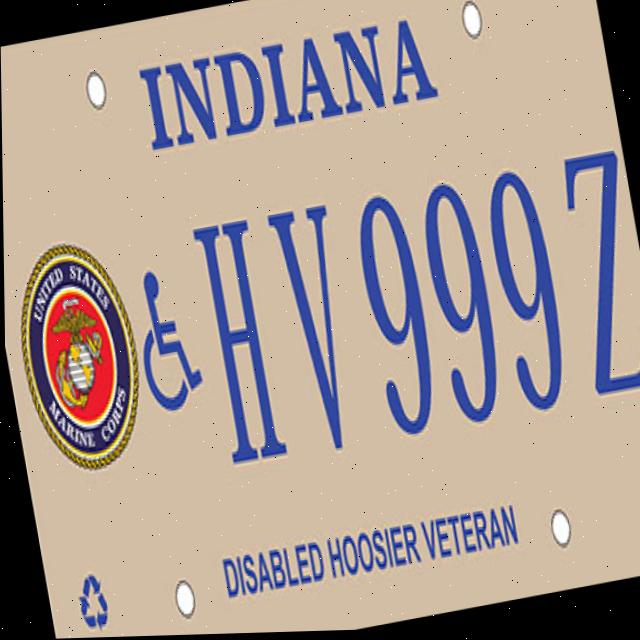symbol_of_access: (121, 248, 211, 428)
